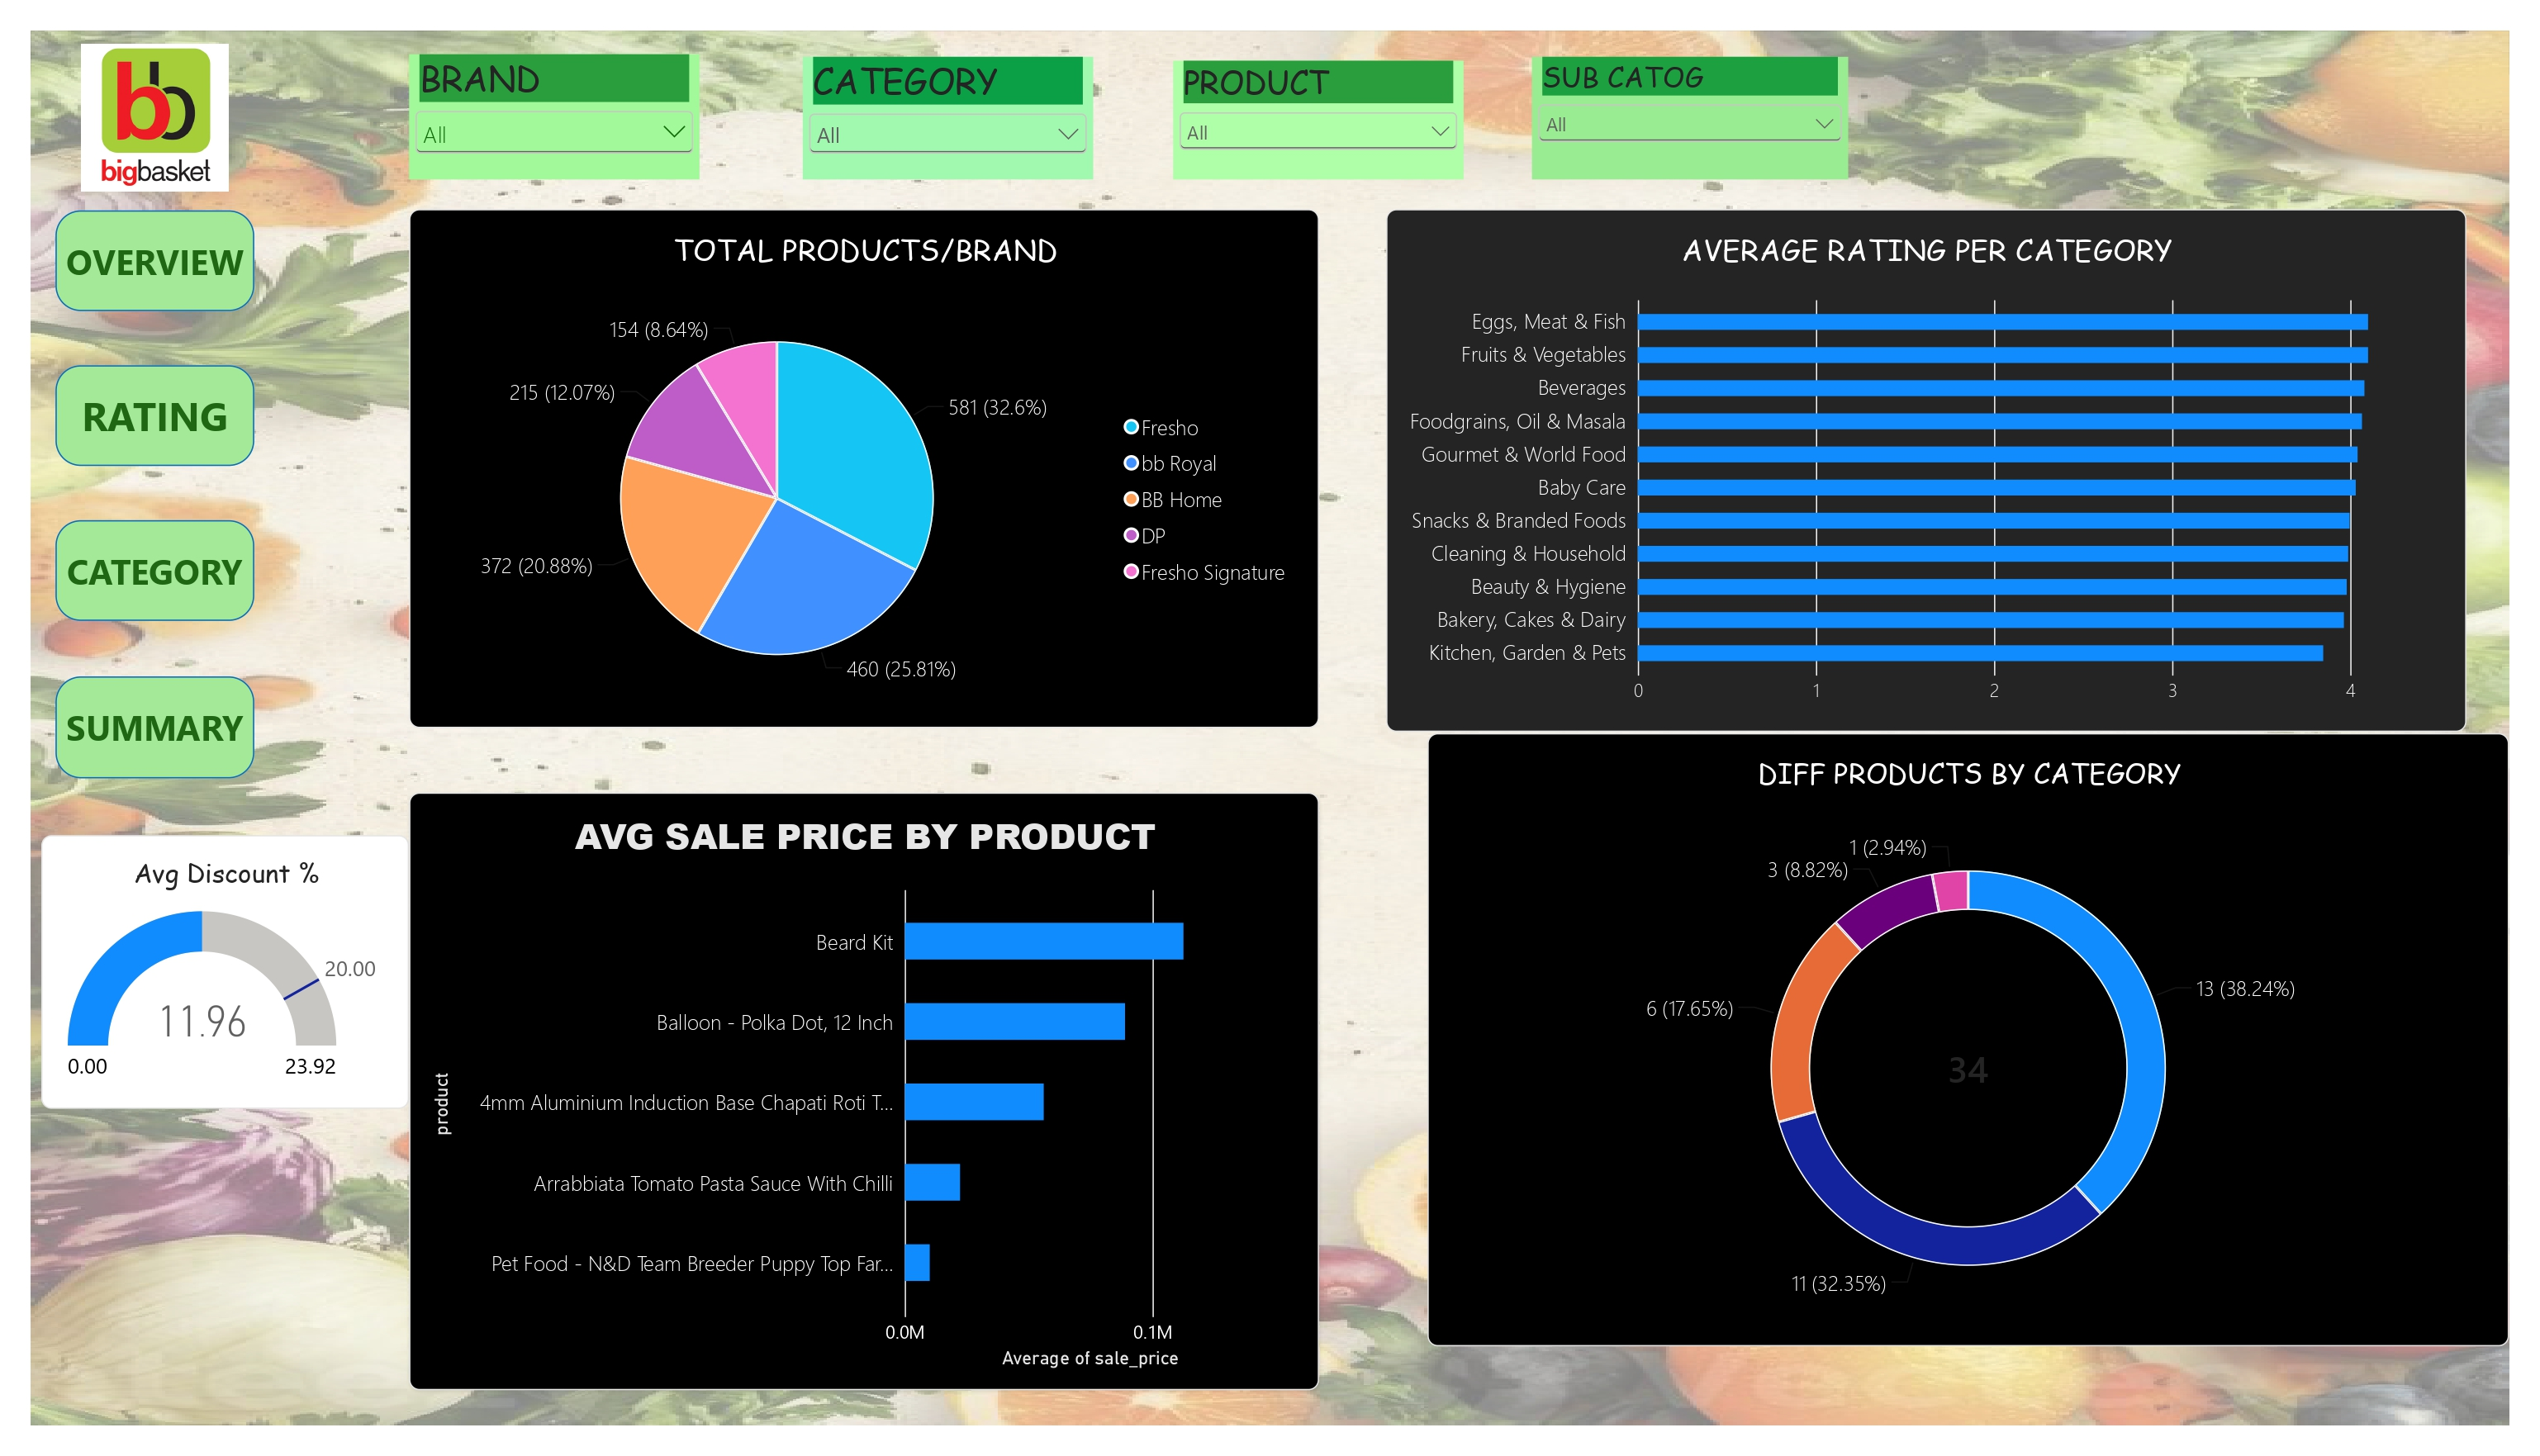

The dashboard page shown, as its layout file describes it:
{"tool":"powerbi","page":{"name":"SUMMARY ","canvas":[1920,1080],"ordinal":3},"visuals":[{"type":"image","box":[0,0,1919.8,1080],"z":0},{"type":"shape","box":[18.6,138.6,154.3,78.6],"z":1000},{"type":"shape","box":[18.6,258.6,154.3,78.6],"z":2000},{"type":"shape","box":[18.6,378.6,154.3,78.6],"z":3000},{"type":"shape","box":[18.6,500,154.3,78.6],"z":4000},{"type":"image","box":[8.6,10,174.3,114.3],"z":5000},{"type":"pieChart","title":"TOTAL PRODUCTS/BRAND ","fields":{"Category":["Sheet1.brand"],"Y":["Sheet1.Total Products"]},"box":[292.5,137.5,705,402.5],"z":6000},{"type":"gauge","fields":{"Y":["Sheet1.Avg Discount %"]},"box":[7.5,622.5,285,212.5],"z":7000},{"type":"clusteredBarChart","title":"AVERAGE RATING PER CATEGORY","fields":{"Category":["Sheet1.category"],"Y":["Sheet1.Average of rating average per category"]},"box":[1050,137.5,836.6,405.5],"z":8000},{"type":"donutChart","title":"DIFF PRODUCTS BY CATEGORY","fields":{"Category":["Sheet1.category"],"Y":["Sheet1.Total Products"]},"box":[1082.1,544.3,837.5,475],"z":9000},{"type":"barChart","title":"  AVG SALE PRICE BY PRODUCT","fields":{"Category":["Sheet1.product"],"Y":["Avg(Sheet1.sale_price)"]},"box":[292.5,590,705,462.5],"z":9001},{"type":"slicer","fields":{"Values":["Sheet1.brand"]},"box":[292.5,17.5,225,97.5],"z":9002},{"type":"slicer","fields":{"Values":["Sheet1.category"]},"box":[597.5,20,225,95],"z":9003},{"type":"slicer","fields":{"Values":["Sheet1.product"]},"box":[885,22.5,225,92.5],"z":9004},{"type":"slicer","fields":{"Values":["Sheet1.sub_category"]},"box":[1162.5,20,245,95],"z":9005}]}

Visuals, with their boxes on the page's 1920x1080 design canvas (x1, y1, x2, y2). These are canvas units, not pixel positions in the 2540x1456 screenshot, which may show the page scaled, cropped or inside an application window:
image: 0,0,1920,1080
shape: 19,139,173,217
shape: 19,259,173,337
shape: 19,379,173,457
shape: 19,500,173,579
image: 9,10,183,124
"TOTAL PRODUCTS/BRAND " pieChart: 292,138,998,540
gauge - Sheet1.Avg Discount %: 8,622,292,835
"AVERAGE RATING PER CATEGORY" clusteredBarChart: 1050,138,1887,543
"DIFF PRODUCTS BY CATEGORY" donutChart: 1082,544,1920,1019
"  AVG SALE PRICE BY PRODUCT" barChart: 292,590,998,1052
slicer - Sheet1.brand: 292,18,518,115
slicer - Sheet1.category: 598,20,822,115
slicer - Sheet1.product: 885,22,1110,115
slicer - Sheet1.sub_category: 1162,20,1408,115
